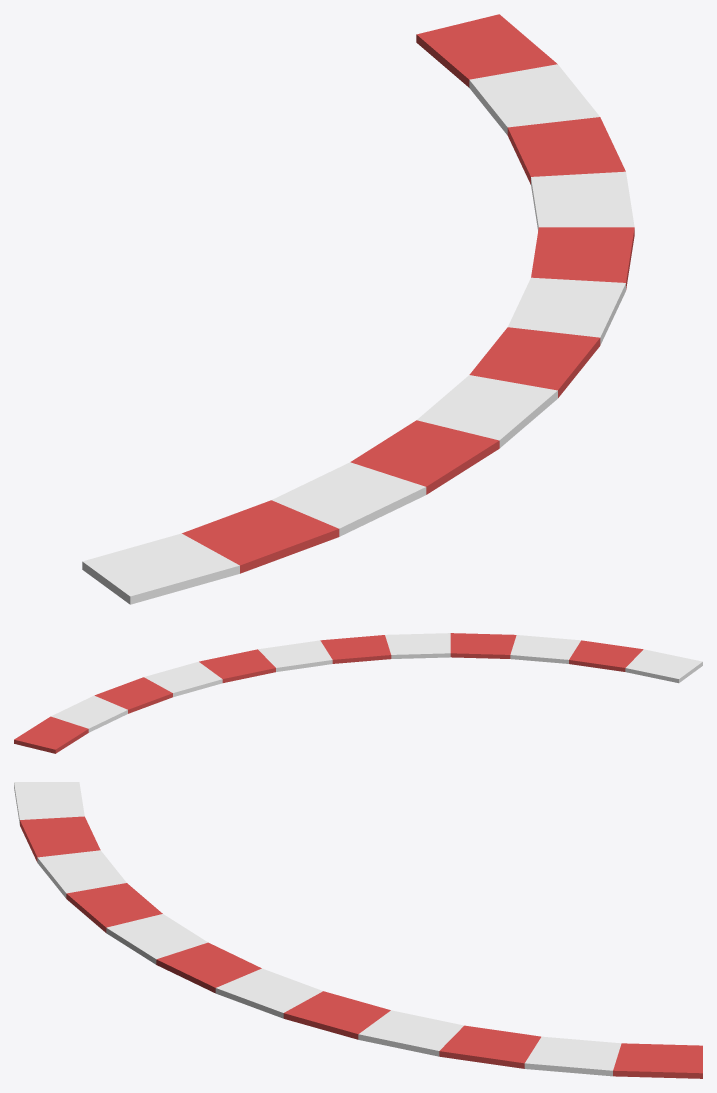
The model's file is roadCornerLargeBorder.obj.
3 renders of one model, top to bottom at view 1: azimuth 30°, elevation 25°; view 2: azimuth 150°, elevation 25°; view 3: azimuth 270°, elevation 25°, orthographic. The views are drawn at different scales.
Parts seen in each view (by area): view 1: roadCornerLargeBorder; view 2: roadCornerLargeBorder; view 3: roadCornerLargeBorder.
Part boxes in pixels (x1=…): roadCornerLargeBorder: x1=82, y1=14, x2=634, y2=604; roadCornerLargeBorder: x1=14, y1=633, x2=702, y2=753; roadCornerLargeBorder: x1=14, y1=782, x2=702, y2=1078.
Bounding box in the file's own units: 2.21 × 0.02 × 2.21.
